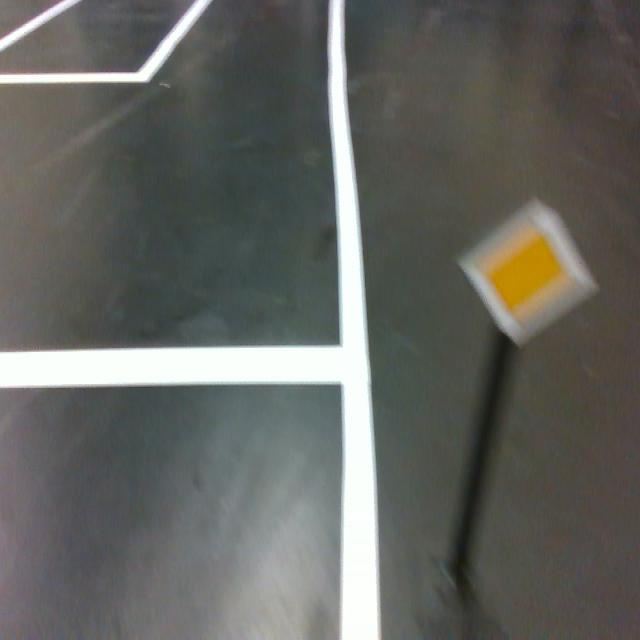priority-sign: (454, 195, 600, 350)
